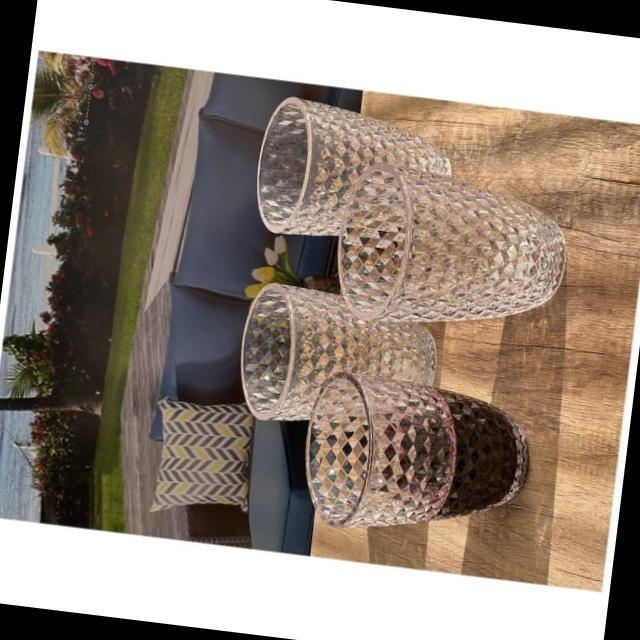glass: (316, 140, 590, 325), (282, 353, 546, 536), (213, 264, 463, 438), (234, 86, 457, 245)
